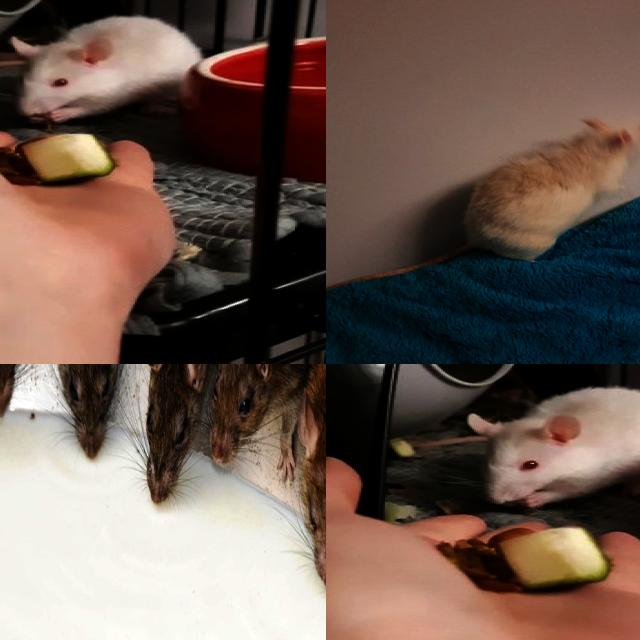rat: (459, 117, 640, 263), (459, 388, 640, 510), (4, 11, 196, 125), (207, 364, 326, 459), (43, 364, 122, 454)
